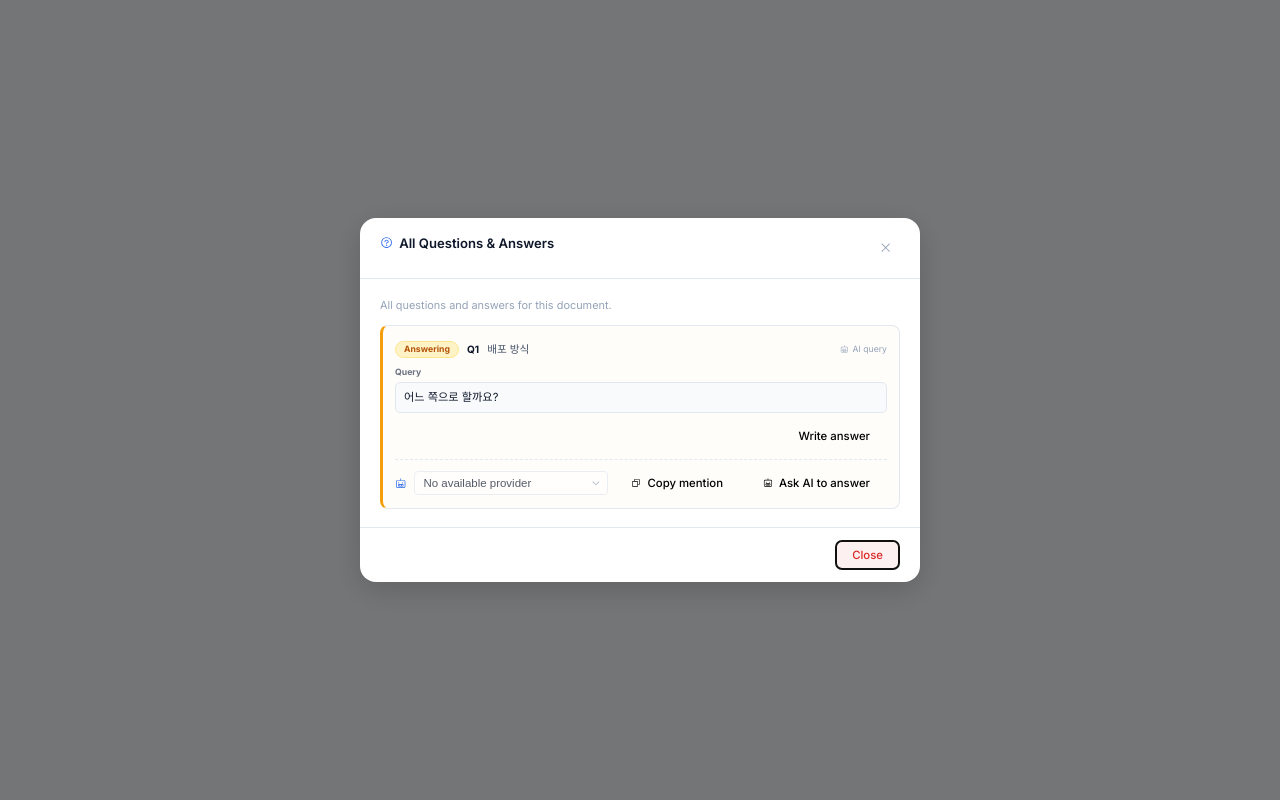
Test: QaHistoryDialog query options (group 0243 R0001) › renders each option unselected, with the free-text box still present
Click the button "Write answer". click: click(834, 436)
box: [782,421,887,451]
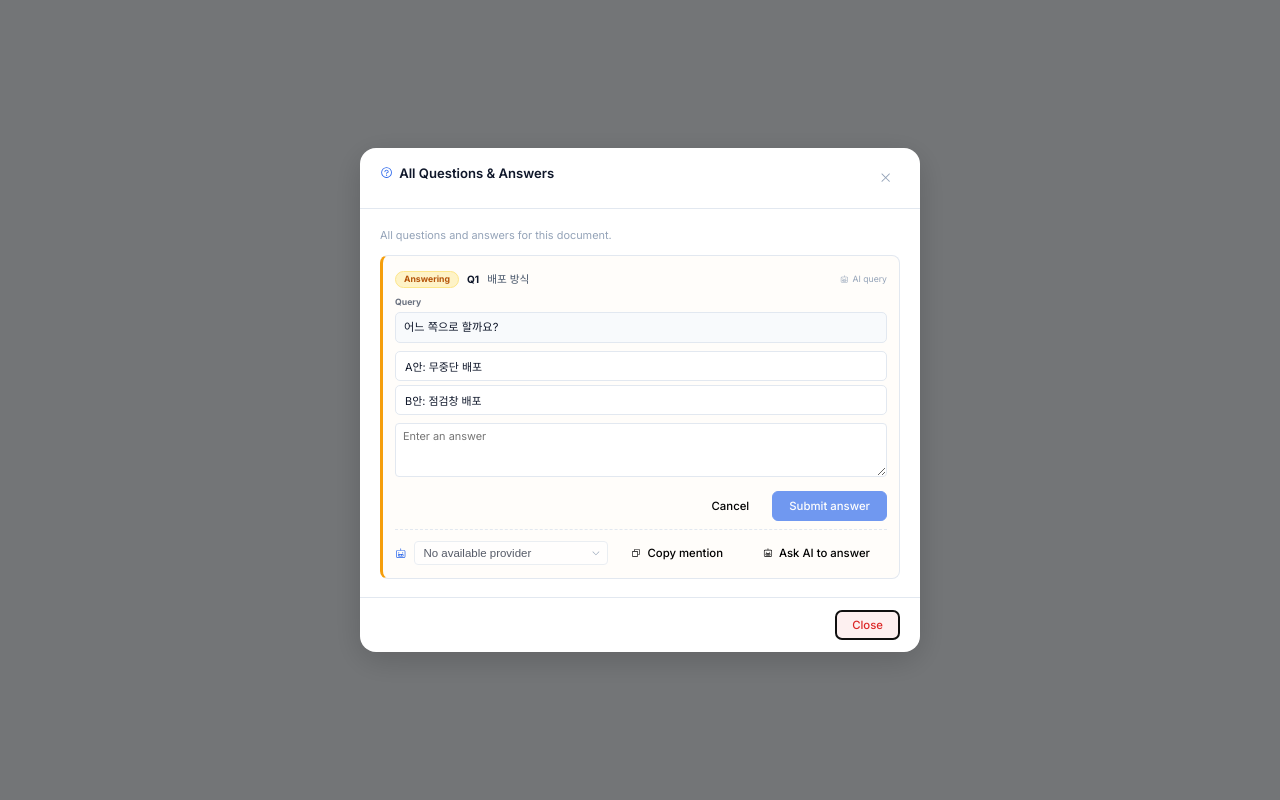
Result: the text box with placeholder "Enter an answer" is shown at [395,423,887,477]
